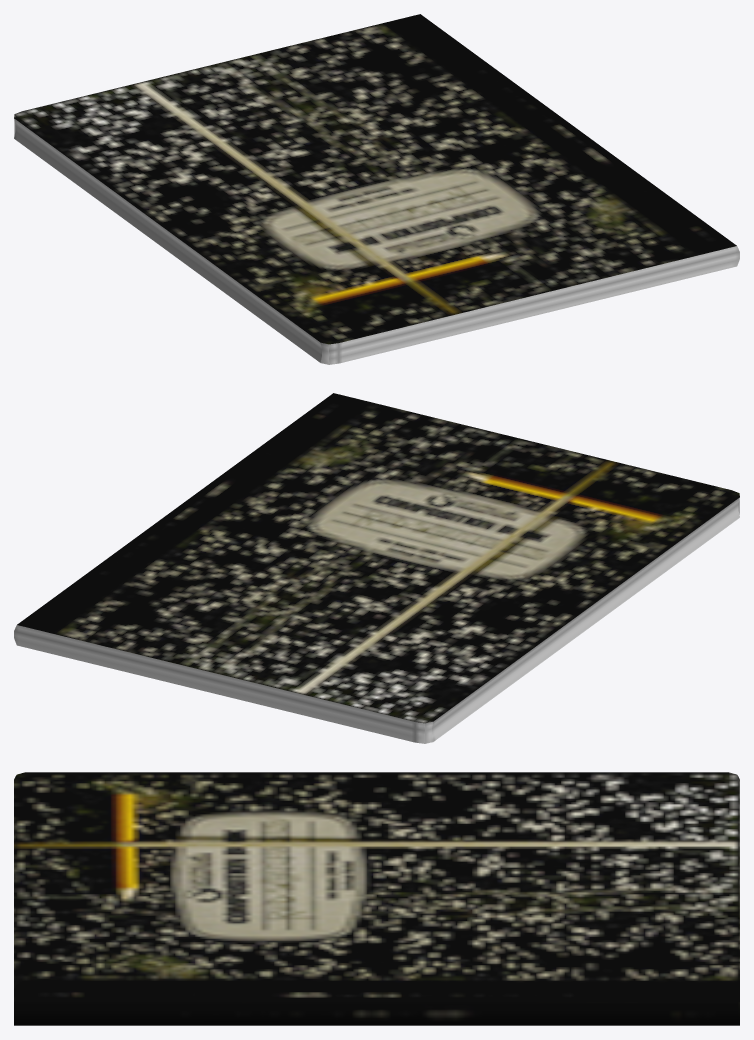
Rendered from notebook.gltf.
The picture shows the model from 3 angles, top to bottom: view 1: azimuth 30°, elevation 25°; view 2: azimuth 150°, elevation 25°; view 3: azimuth 270°, elevation 25°; orthographic projection. The views are drawn at different scales.
Visible parts, largest first — view 1: pCube6; view 2: pCube6; view 3: pCube6.
Part boxes in pixels (x1,y1,x2,y2): pCube6: (14,14,739,364); pCube6: (14,393,739,743); pCube6: (14,772,739,1025).
Size of the model in its own units: 0.2114 by 0.01 by 0.28.
1 material, 1 textured.
